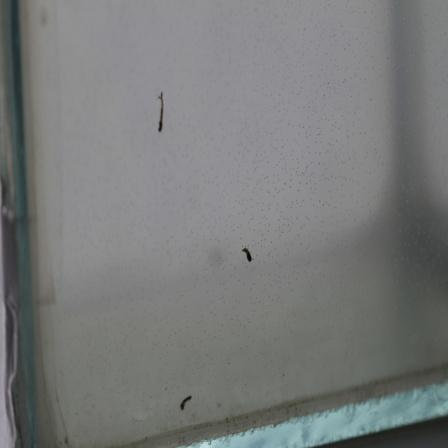Jentik-Nyamuk: (152, 89, 168, 135), (239, 242, 257, 267), (177, 393, 195, 411)
